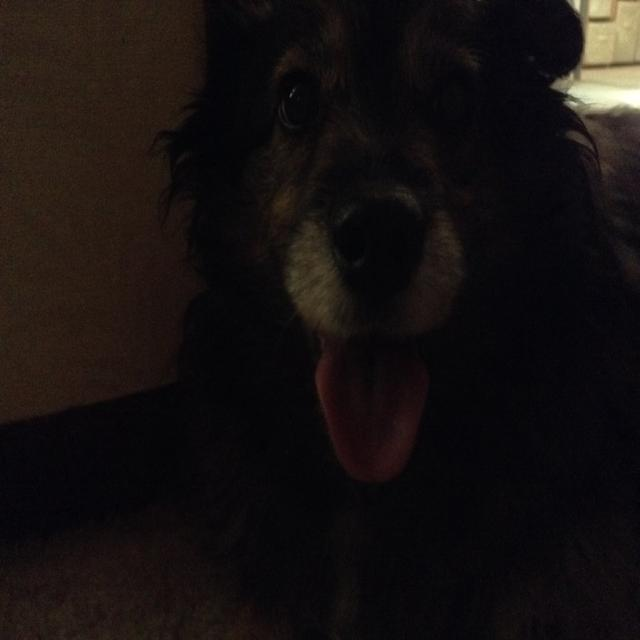Dog: (189, 39, 588, 547)
